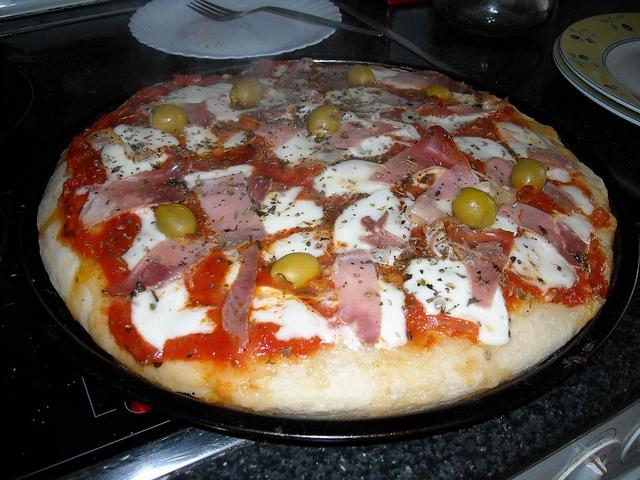tomato: (516, 186, 570, 216), (372, 143, 410, 164), (474, 116, 494, 130)
